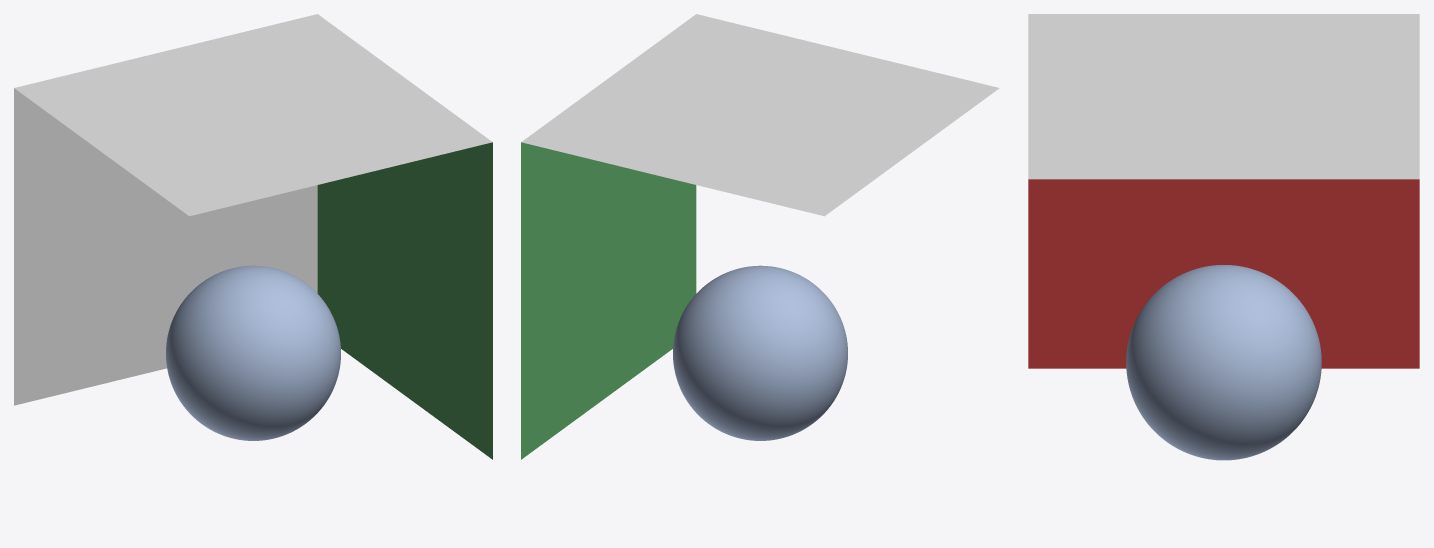
File: cornell_sphere.gltf
3 views of the same model, side by side, from view 1: azimuth 30°, elevation 25°; view 2: azimuth 150°, elevation 25°; view 3: azimuth 270°, elevation 25° (orthographic). The views are drawn at different scales.
Size of the model in its own units: 2 by 2 by 2.
